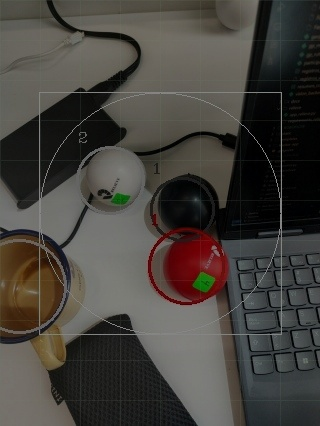Pelota blanca: (47, 316, 198, 425), (0, 228, 73, 344), (76, 145, 147, 214), (36, 182, 86, 246), (28, 331, 68, 371), (215, 0, 262, 30)
Pelota negra: (143, 172, 219, 232)
Pelota roja: (145, 225, 230, 307)
